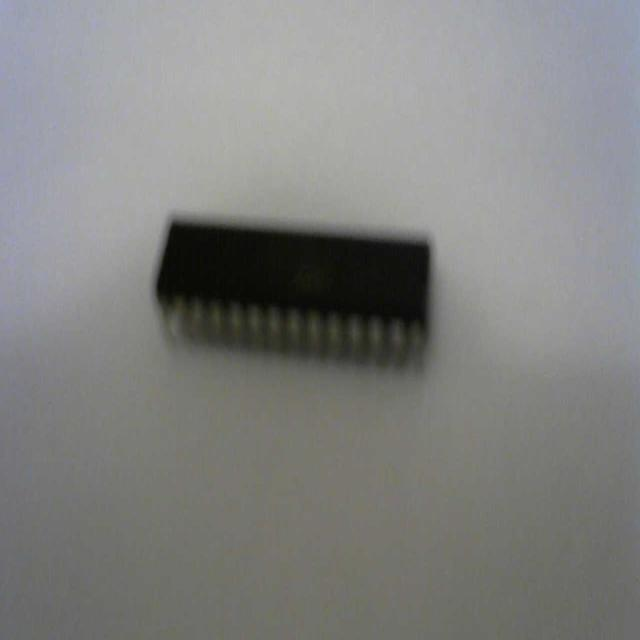atmega: (153, 210, 433, 375)
